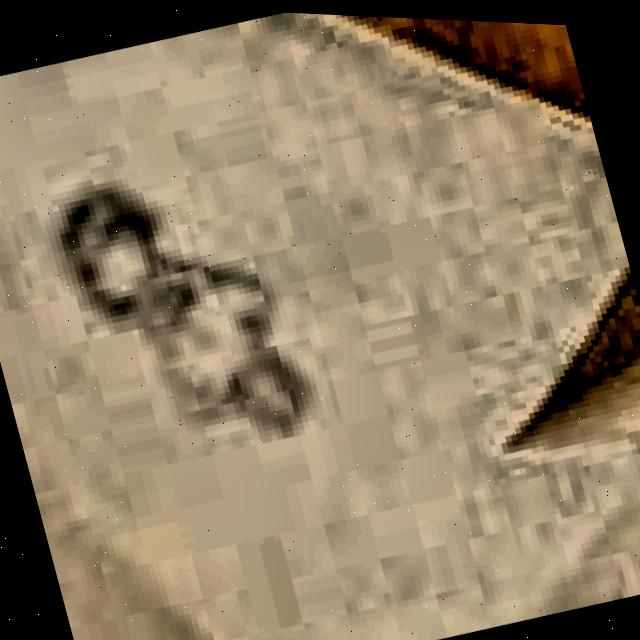paper: (0, 0, 640, 640), (0, 10, 640, 640)
